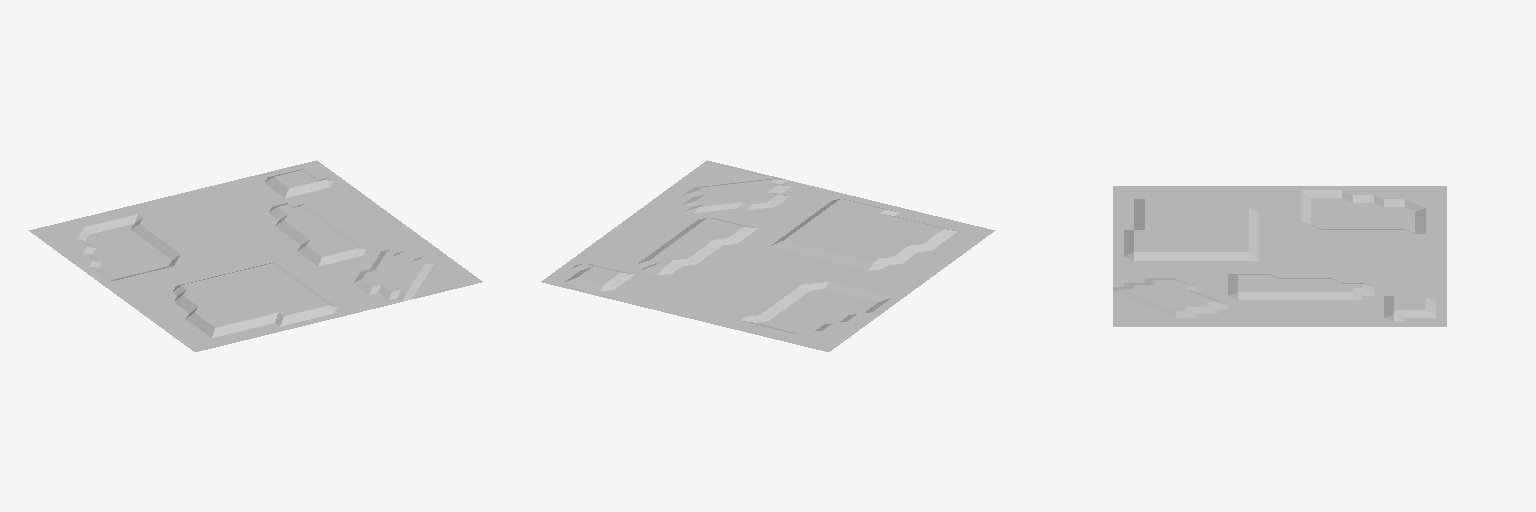
The model's file is Map1.obj.
3 views of the same model, side by side, from view 1: azimuth 30°, elevation 25°; view 2: azimuth 150°, elevation 25°; view 3: azimuth 270°, elevation 25° (orthographic).
Visible parts, largest first — view 1: Ground; view 2: Ground; view 3: Ground.
Boxes of the visible parts, x1,y1,x2,y2 form: Ground: [29, 160, 482, 351]; Ground: [541, 160, 994, 351]; Ground: [1113, 186, 1446, 326].
Bounding box in the file's own units: 20.28 × 0.5434 × 20.28.